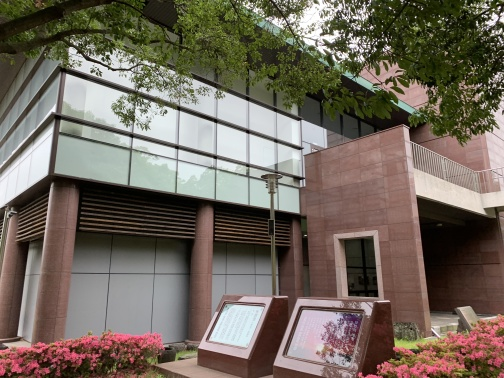Museum: (21, 51, 450, 378)
